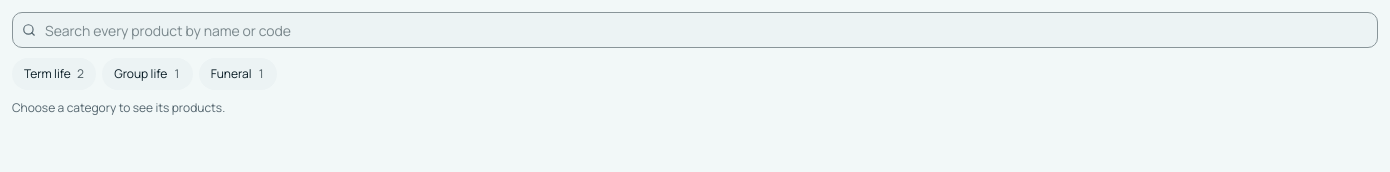
Test: ProductChooser › searches every category at once
Type "fun-01" into the search field named "Find a product" at (695, 30), box [12,12,1378,48]
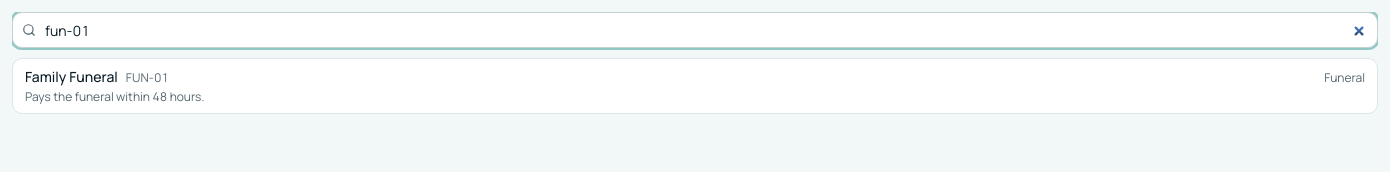
Expected: the button with aria-label "Family Funeral (FUN-01)" is shown, [12,58,1378,114]
